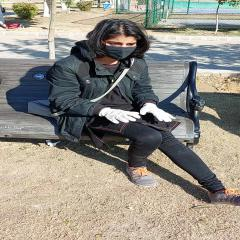gloved: (98, 107, 140, 124), (141, 102, 175, 122)
